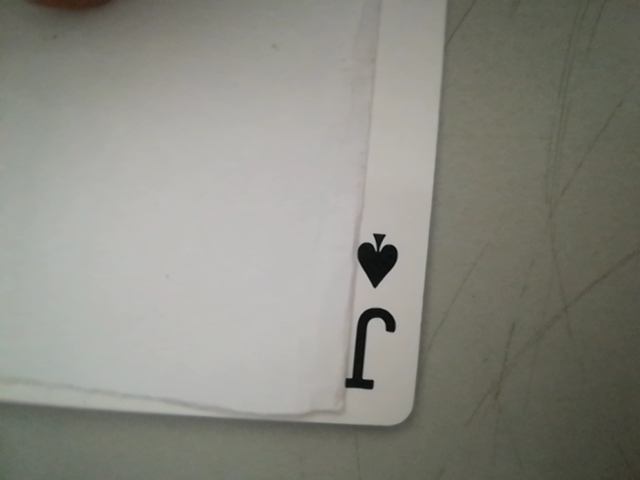ht j: (338, 220, 421, 408)
